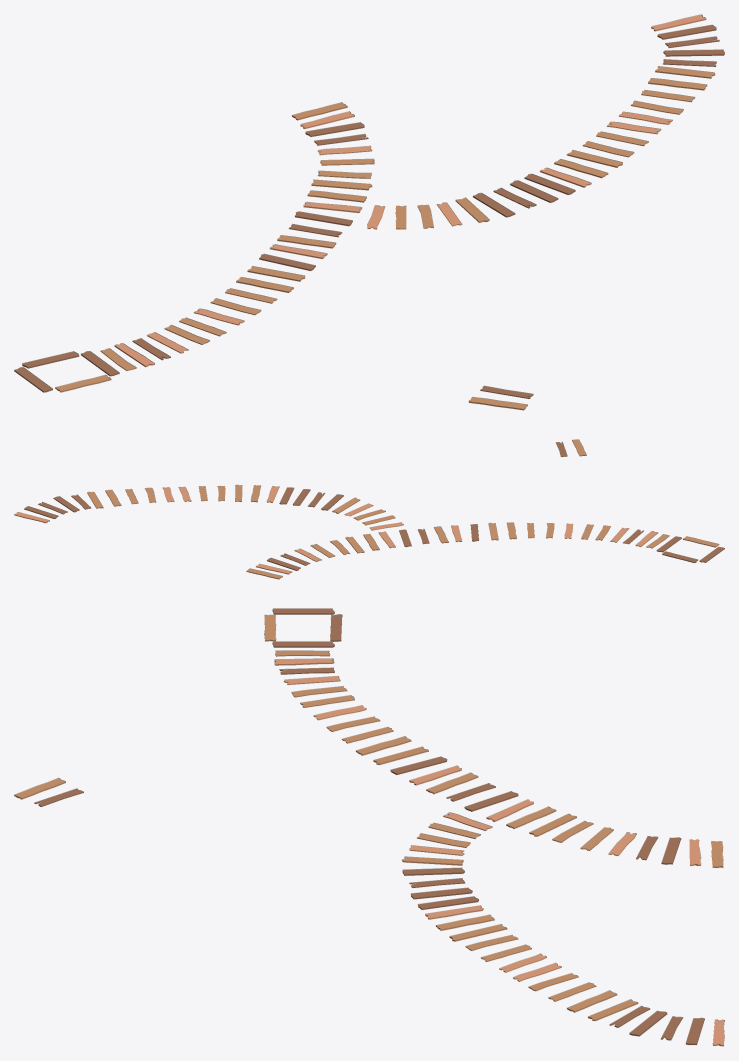
Rendered from road.glb.
The picture shows the model from 3 angles, top to bottom: view 1: azimuth 30°, elevation 25°; view 2: azimuth 150°, elevation 25°; view 3: azimuth 270°, elevation 25°; orthographic projection. The views are drawn at different scales.
Visible parts, largest first — view 1: road; view 2: road; view 3: road.
Boxes of the visible parts, box(x1,y1,x2,y2) form: road: box(14, 14, 724, 410); road: box(14, 439, 724, 579); road: box(14, 608, 724, 1046).
Bounding box in the file's own units: 34.39 × 0.4936 × 23.67.
